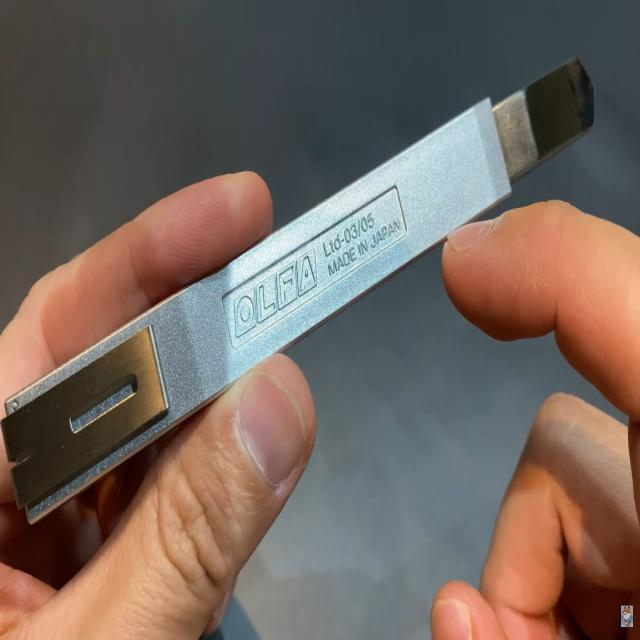cutter: (3, 2, 640, 520)
